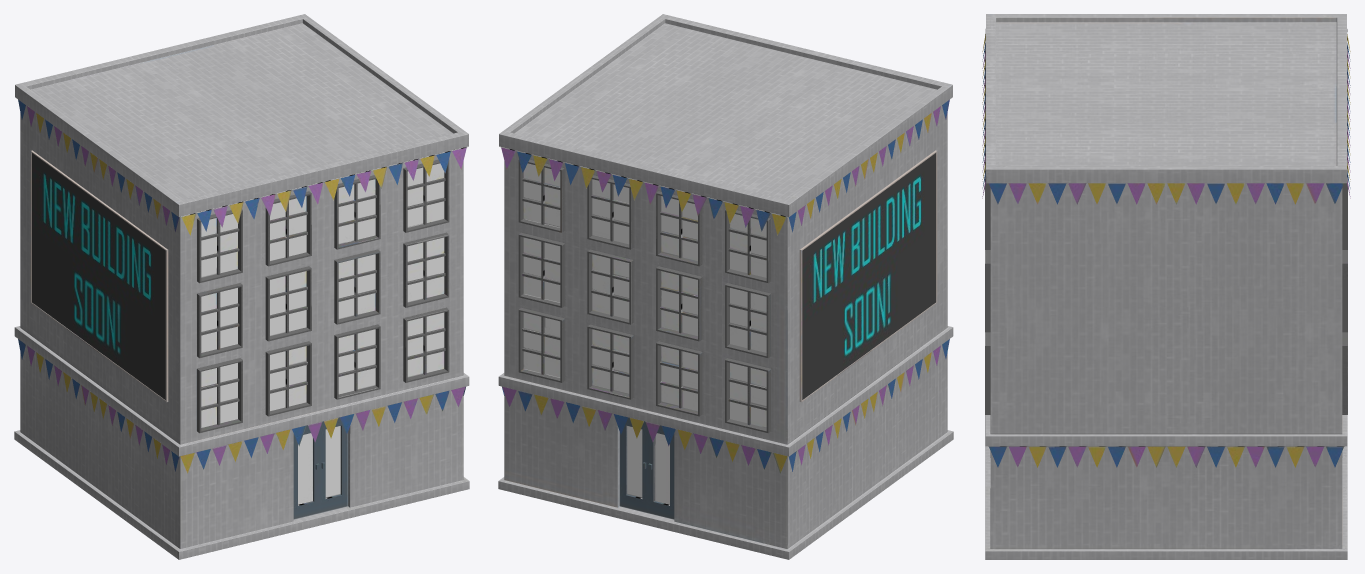
The model's file is BUILDING_CorporateHumor_2.1.fbx.
3 views of the same model, side by side, from view 1: azimuth 30°, elevation 25°; view 2: azimuth 150°, elevation 25°; view 3: azimuth 270°, elevation 25° (orthographic). The views are drawn at different scales.
Parts seen in each view (by area): view 1: BUILDING_CorporateHumor_2.1_Baked; view 2: BUILDING_CorporateHumor_2.1_Baked; view 3: BUILDING_CorporateHumor_2.1_Baked.
Boxes of the visible parts, x1,y1,x2,y2 form: BUILDING_CorporateHumor_2.1_Baked: (14, 14, 469, 559); BUILDING_CorporateHumor_2.1_Baked: (498, 14, 953, 559); BUILDING_CorporateHumor_2.1_Baked: (982, 14, 1350, 559).
Bounding box in the file's own units: 123 × 144 × 123.
Materials: 1 (1 with a texture image).
